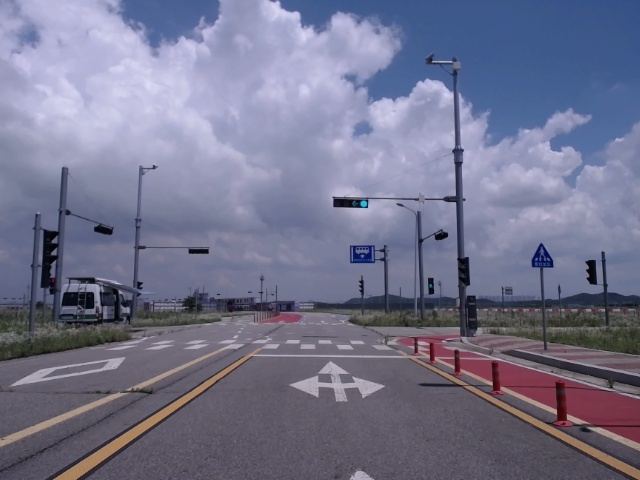all_green_4: (333, 199, 369, 208)
